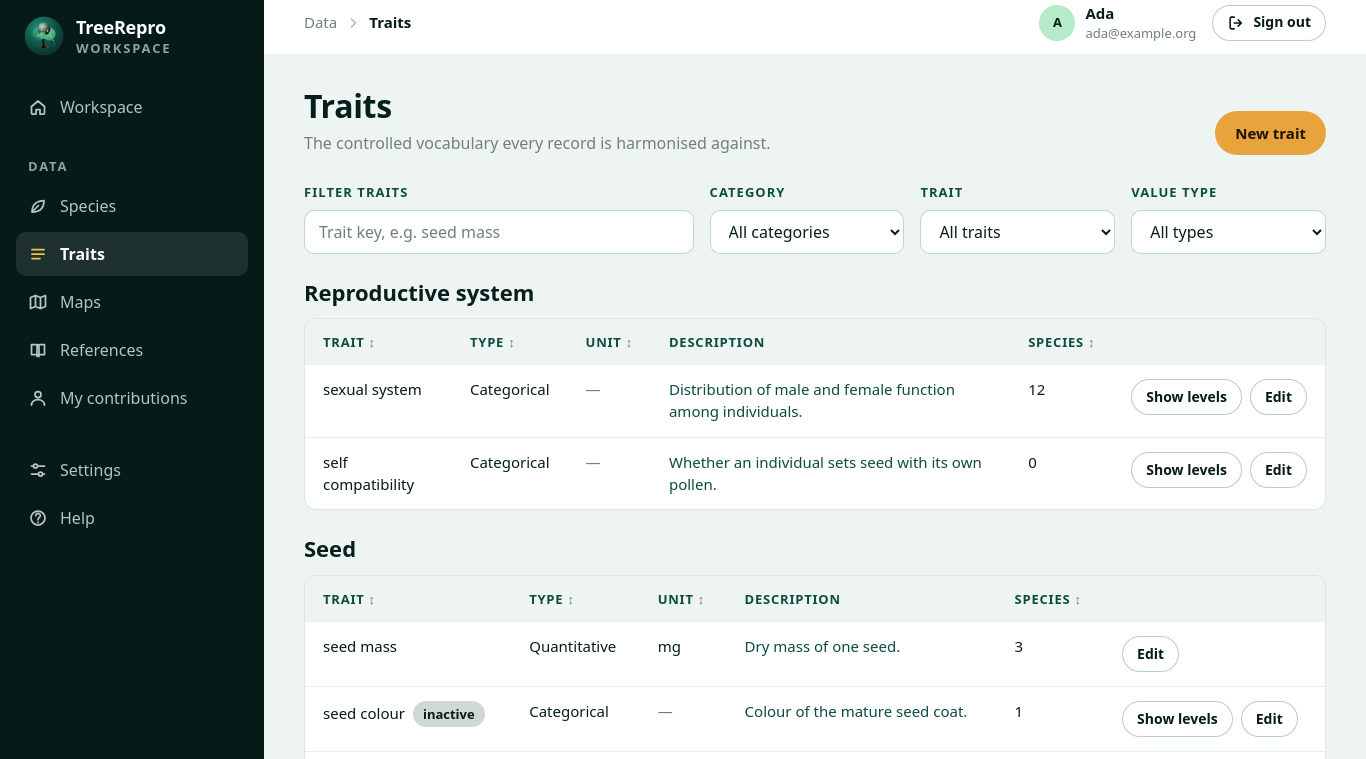
Test case: RFC-62 R6 TraitsPage editing › creates a trait from the header dialog and refetches the dictionary
Click the button "New trait".
click(1271, 133)  # box x1=1215 y1=111 x2=1326 y2=155
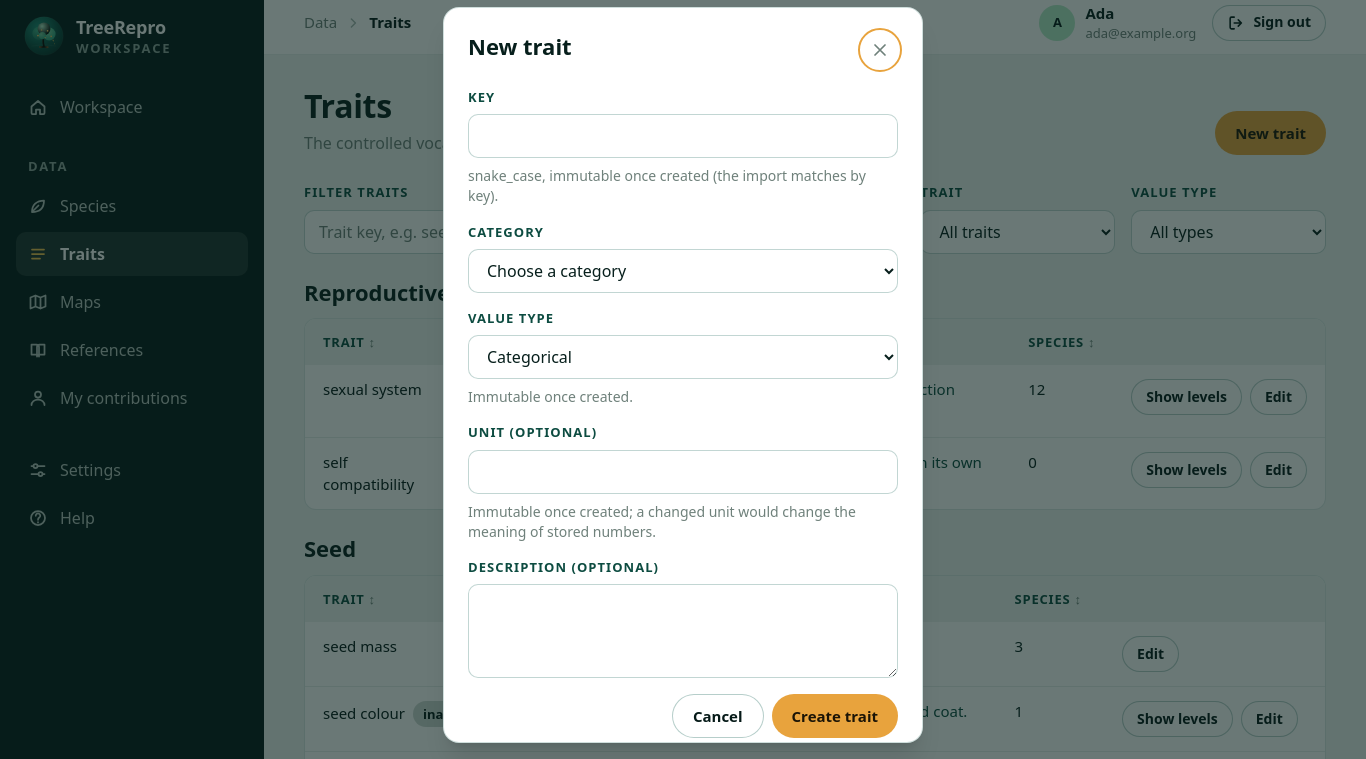
Type "flower_colour" into the field labelled "Key".
click(683, 136); type("flower_colour")  # box x1=468 y1=114 x2=898 y2=158
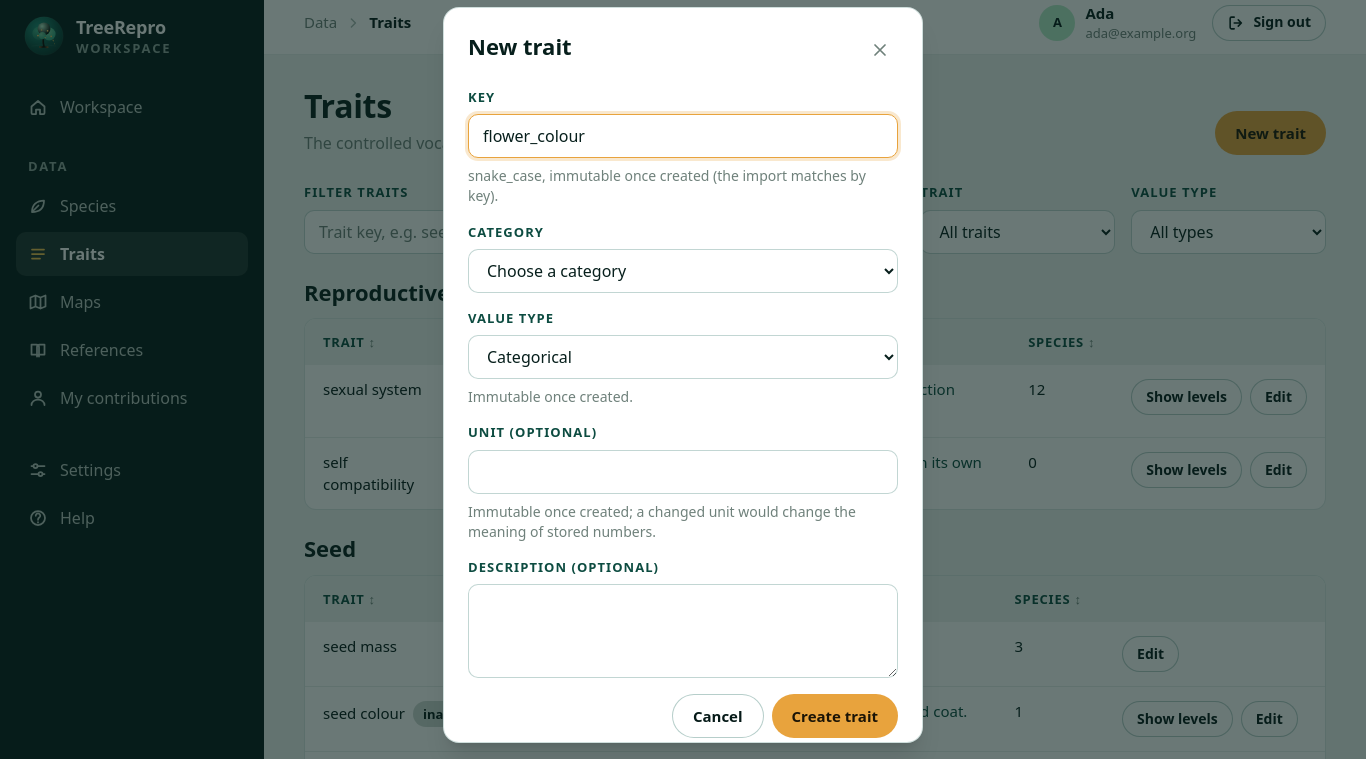
Select "Seed" in the dropdown labelled "Category" at {"x": 683, "y": 271}, box x1=468 y1=249 x2=898 y2=293
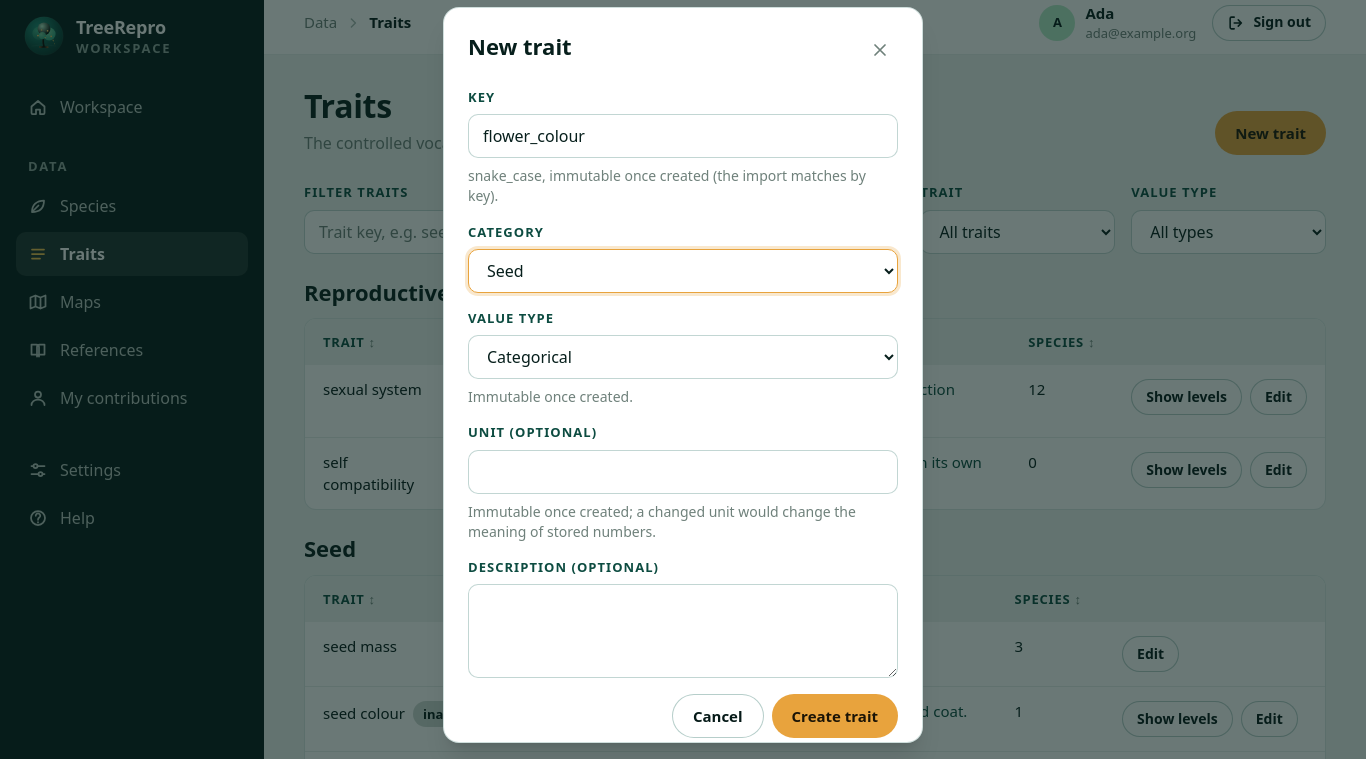
Click the button "Create trait".
click(835, 716)  # box x1=772 y1=694 x2=898 y2=738
(page scrolled)
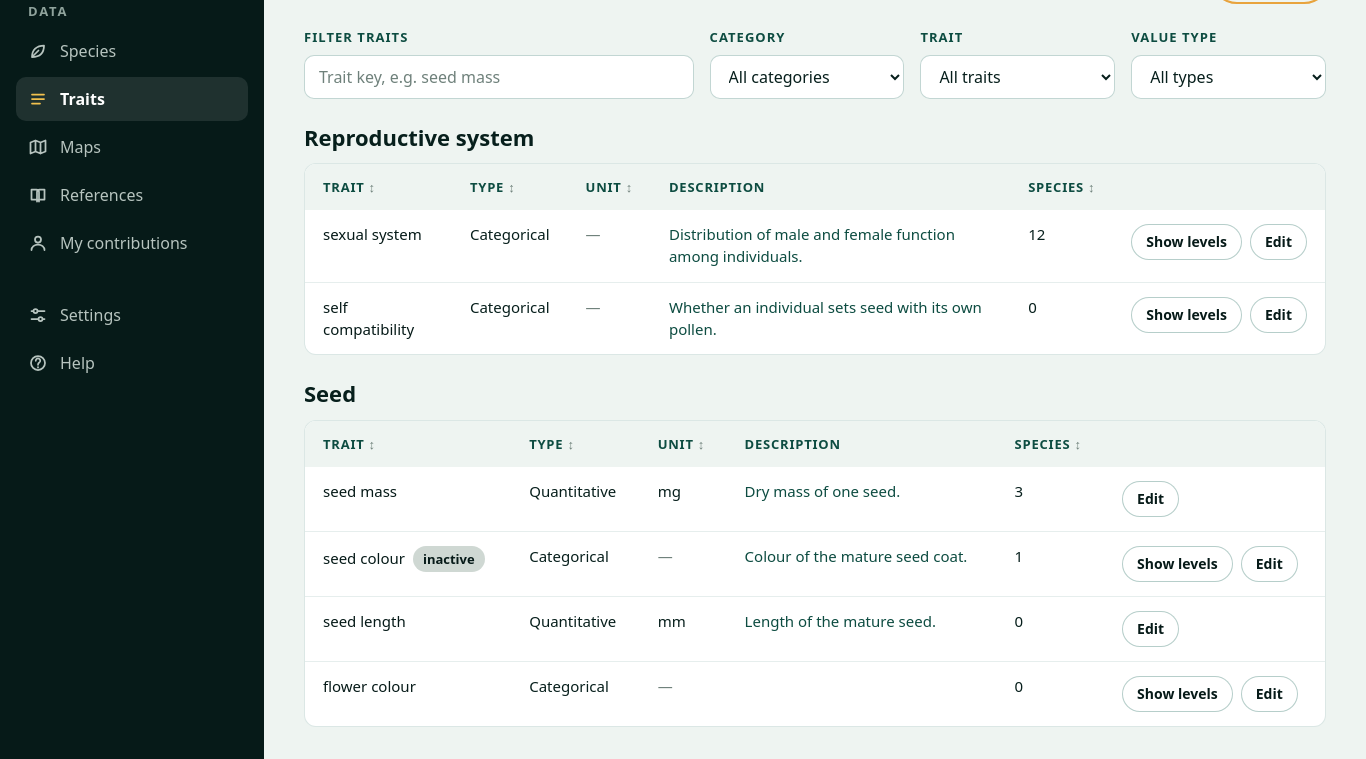
Check: the dialog is gone
Check: the link "flower colour" is shown, box x1=323 y1=676 x2=416 y2=698
